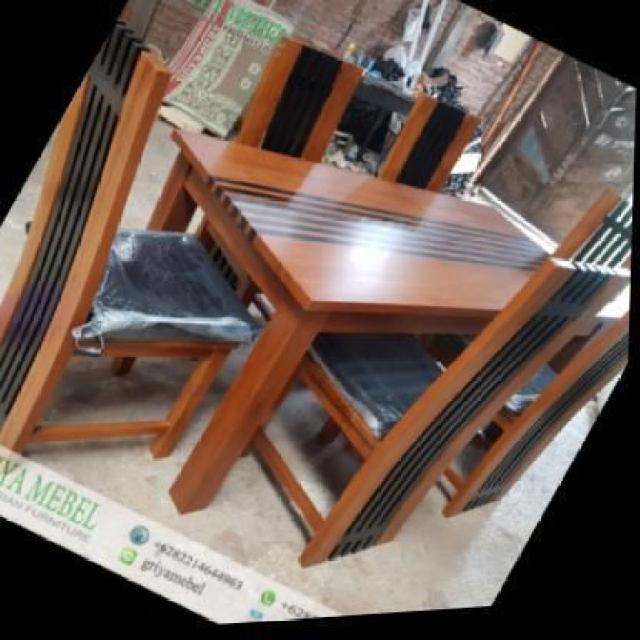tables: (151, 128, 629, 568)
